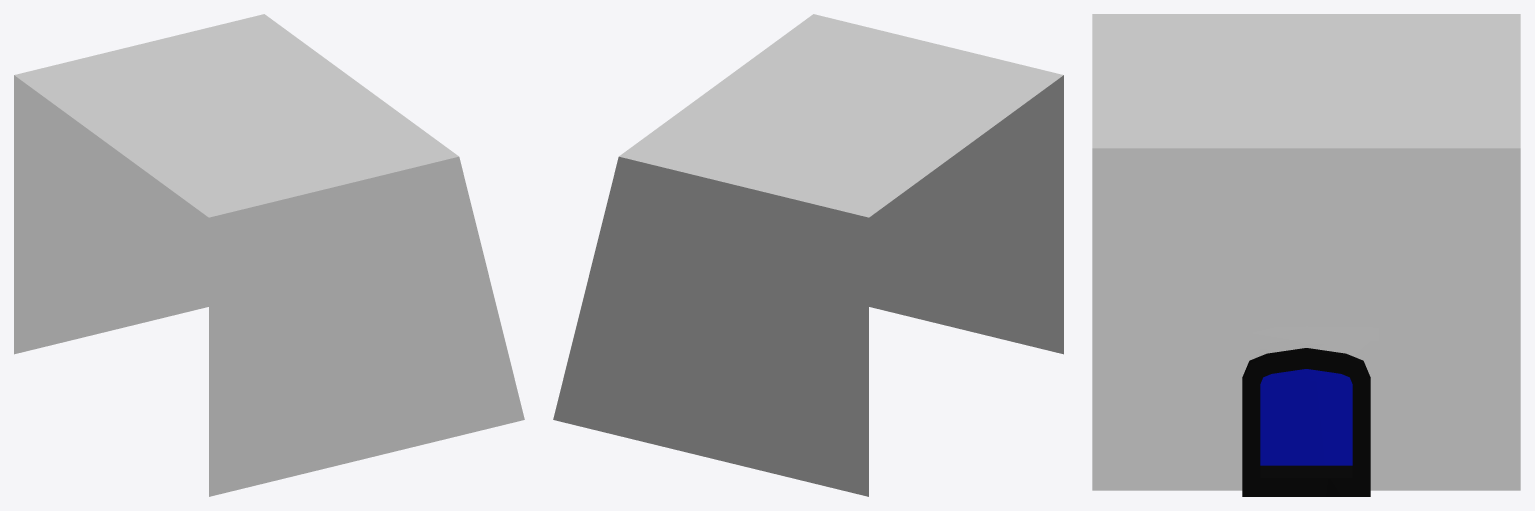
The picture shows the model from 3 angles, left to right: view 1: azimuth 30°, elevation 25°; view 2: azimuth 150°, elevation 25°; view 3: azimuth 270°, elevation 25°; orthographic projection. The views are drawn at different scales.
Parts seen in each view (by area): view 1: Base; view 2: Base; view 3: Base.
Boxes of the visible parts, box(x1,y1,x2,y2) form: Base: box(14, 14, 524, 496); Base: box(553, 14, 1063, 496); Base: box(1092, 14, 1520, 496).
Bounding box in the file's own units: 44.54 × 36.24 × 45.82.
